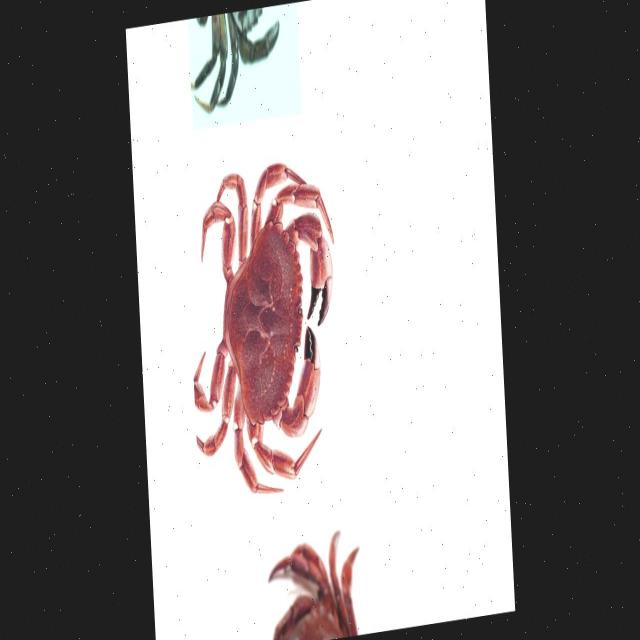egc: (190, 5, 280, 112)
